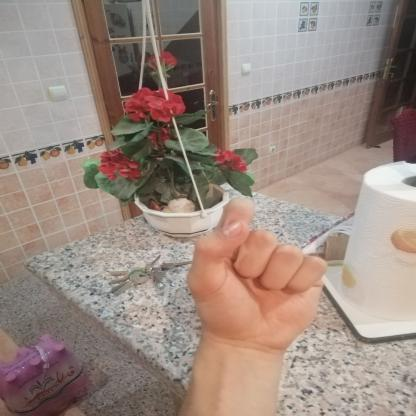FAA: (172, 191, 342, 367)
